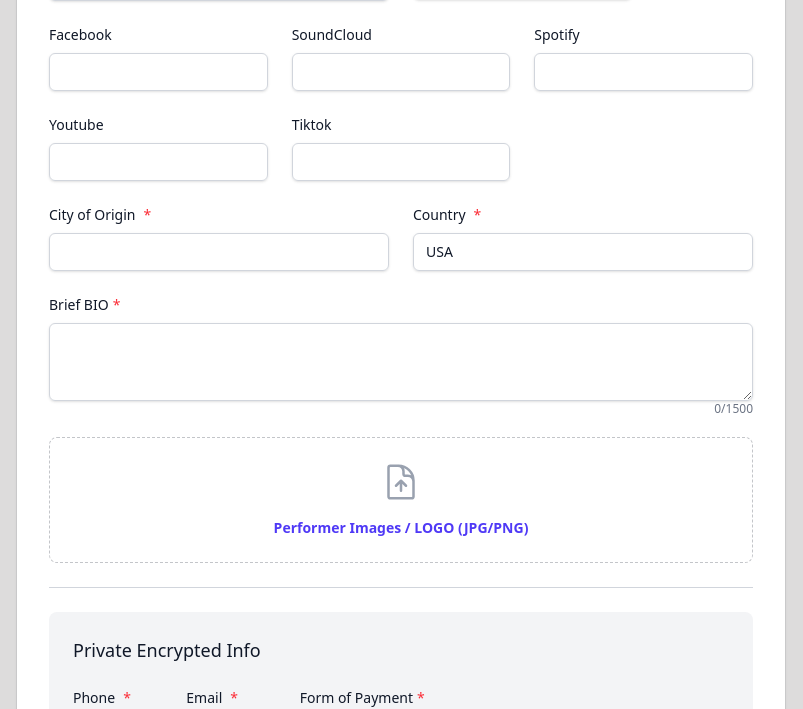
Test: TalentForm › validates bio for repetitive words
This screenshot has width=803, height=709.
(page scrolled)
Type "hello hello hello hello hello hello" into the text box labelled "Brief BIO*" at (401, 362), box [49, 323, 753, 401]
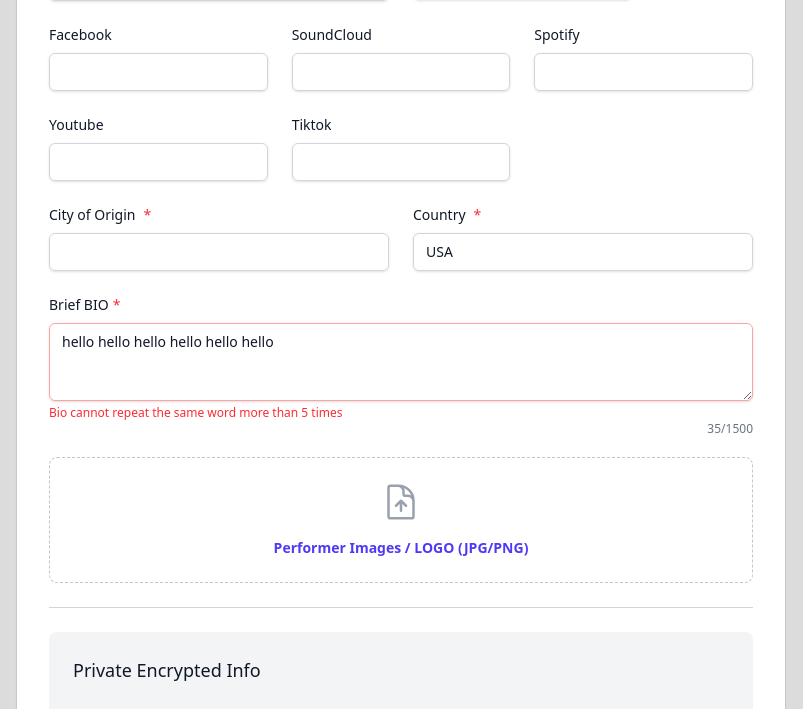
Expected: the text "Bio cannot repeat the same word more than 5 times" is shown, [49, 404, 342, 421]
